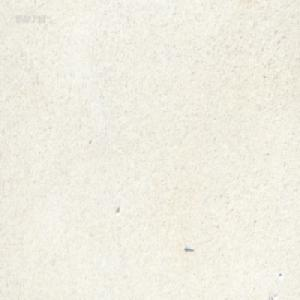Nail: (184, 245, 194, 252)
